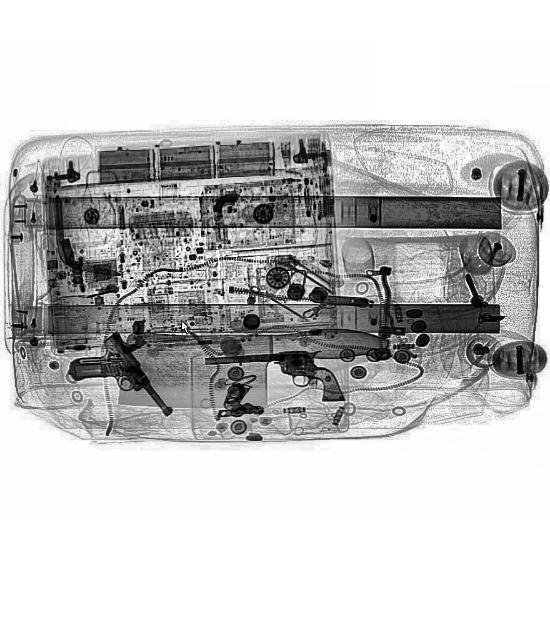Gun: (60, 322, 180, 451), (200, 346, 346, 408)
Knife: (111, 324, 391, 416)
